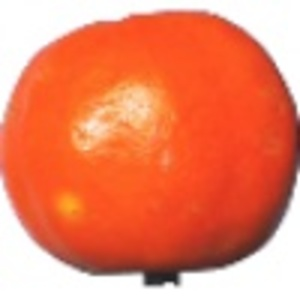tangerina: (1, 9, 300, 285)
